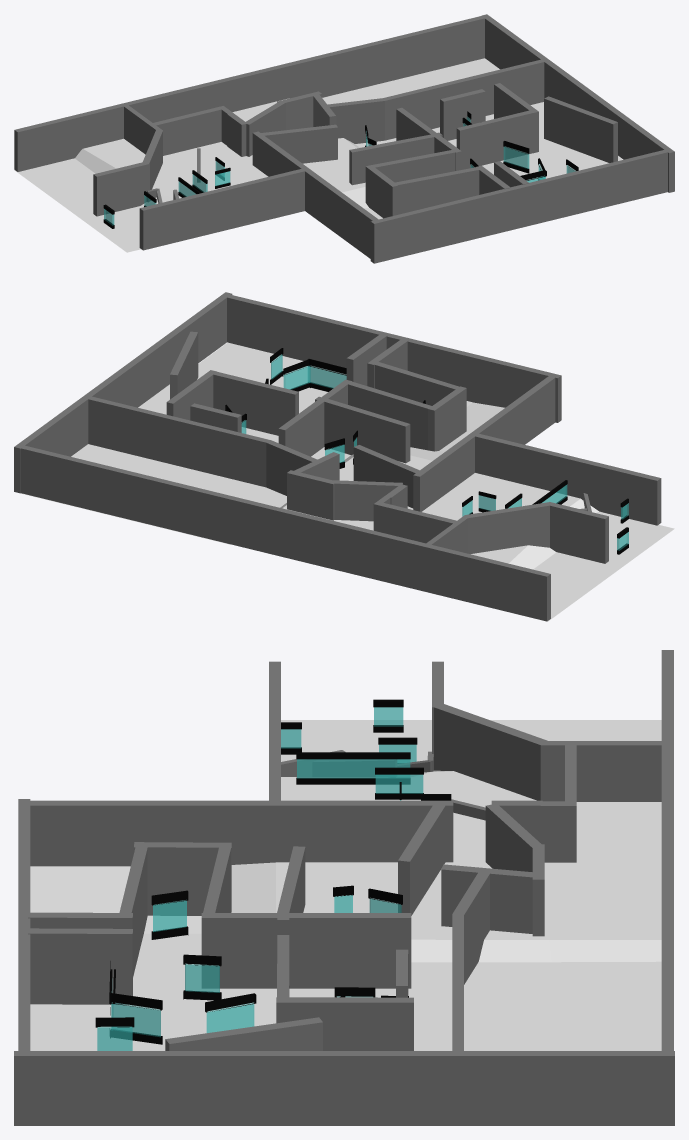
The model's file is G_Environment_LabMap_Blockout_Puzzle3.fbx.
3 views of the same model, one above another, from view 1: azimuth 30°, elevation 25°; view 2: azimuth 150°, elevation 25°; view 3: azimuth 270°, elevation 25° (orthographic). The views are drawn at different scales.
Visible parts, largest first — view 1: Plane.039, Plane.054, Plane.029, Plane.060; view 2: Plane.039, Plane.054, Plane.029, Plane.061, Plane.062; view 3: Plane.039, Plane.029, Plane.054, Plane.044, Plane.037, Plane.062, Plane.056, Plane.060, Plane.055, Plane.046, Plane.033, Plane.050 (+2 smaller).
Part boxes in pixels (x1,y1,x2,y2): Plane.039: (14,14,674,263); Plane.054: (349,83,617,218); Plane.029: (14,58,622,252); Plane.060: (503,141,529,173); Plane.039: (14,292,661,621); Plane.054: (166,331,466,463); Plane.029: (20,342,674,621); Plane.061: (307,359,346,391); Plane.062: (283,359,310,391); Plane.039: (14,650,674,1125); Plane.029: (30,720,661,1050); Plane.054: (28,842,413,1050); Plane.044: (296,752,410,784); Plane.037: (281,750,485,820); Plane.062: (110,993,162,1044); Plane.056: (183,954,221,1000); Plane.060: (205,993,256,1032); Plane.055: (151,890,188,939); Plane.046: (375,767,423,799); Plane.033: (95,1017,134,1050); Plane.050: (373,699,403,732).
Bounding box in the file's own units: 11206 × 918 × 7703.
